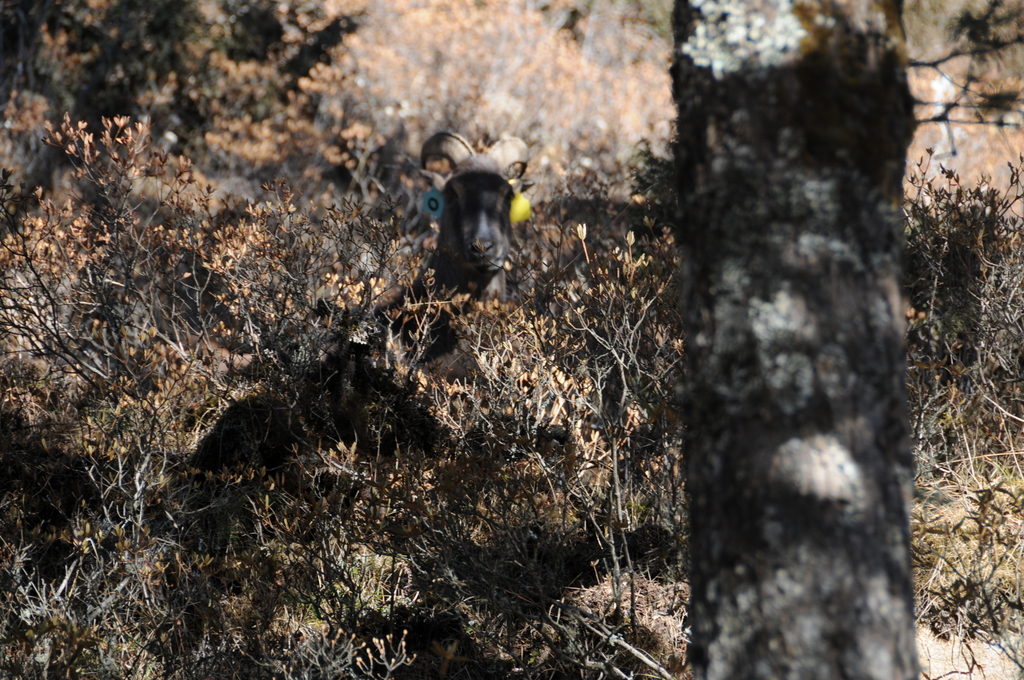Animal: (191, 129, 531, 479)
